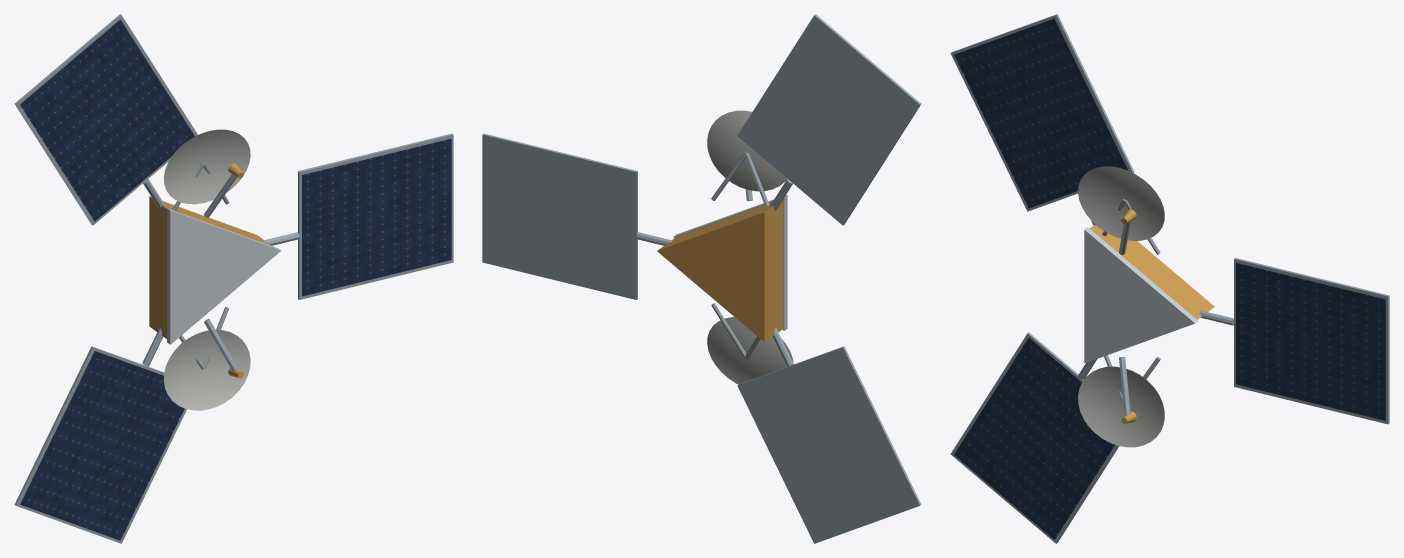
File: ref-symphonie-7578.glb
3 views of the same model, side by side, from view 1: azimuth 30°, elevation 25°; view 2: azimuth 150°, elevation 25°; view 3: azimuth 330°, elevation 25° (orthographic).
Parts seen in each view (by area): view 1: Solar cell panel (×3), Communications reflector (×2), Equipment flange, Radial paddle frame (×3), Service barrel; view 2: Radial paddle frame (×3), Service barrel, Communications reflector (×2), Equipment flange; view 3: Solar cell panel (×3), Communications reflector (×2), Equipment flange, Radial paddle frame (×3), Service barrel.
Boxes of the visible parts, x1,y1,x2,y2 form: Solar cell panel (×3): [20, 19, 451, 540]; Communications reflector (×2): [163, 129, 250, 410]; Equipment flange: [167, 208, 281, 344]; Radial paddle frame (×3): [14, 14, 453, 543]; Service barrel: [149, 196, 271, 338]; Radial paddle frame (×3): [482, 14, 921, 543]; Service barrel: [657, 199, 783, 342]; Communications reflector (×2): [707, 110, 793, 384]; Equipment flange: [673, 194, 787, 330]; Solar cell panel (×3): [954, 18, 1385, 539]; Communications reflector (×2): [1078, 166, 1164, 447]; Equipment flange: [1084, 227, 1198, 363]; Radial paddle frame (×3): [950, 14, 1389, 543]; Service barrel: [1090, 225, 1214, 319].
Bounding box in the file's own units: 5.78 × 6.68 × 0.8553.
5 materials, 1 textured.
